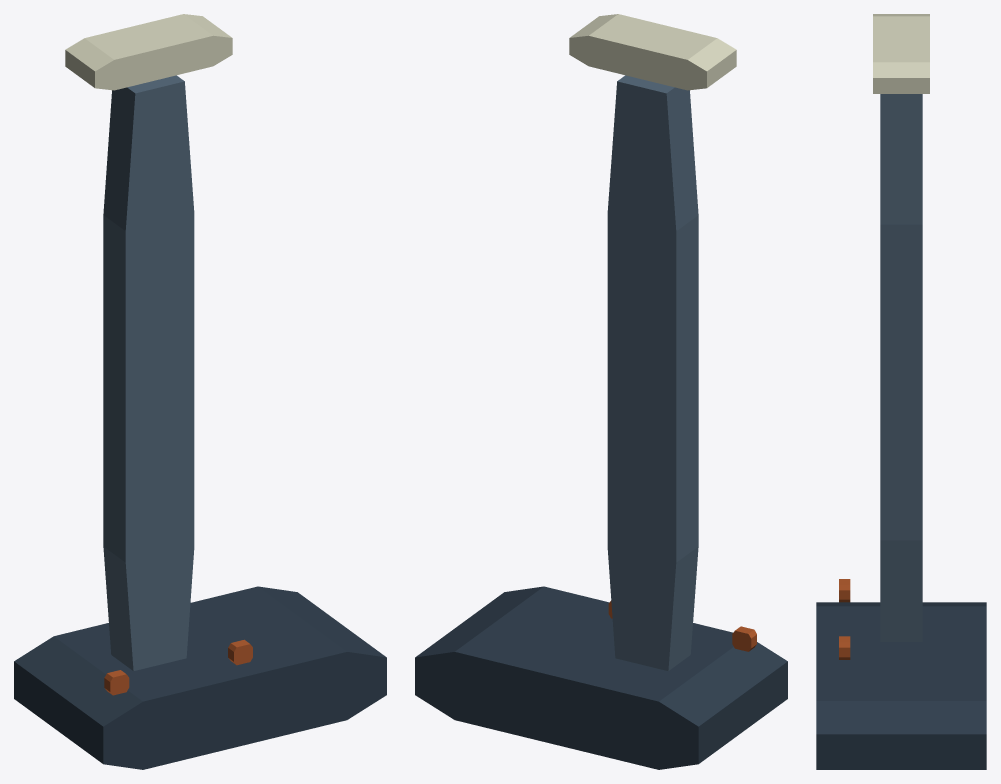
The model's file is BridgeEscapePylon.obj.
3 renders of one model, left to right at view 1: azimuth 30°, elevation 25°; view 2: azimuth 150°, elevation 25°; view 3: azimuth 270°, elevation 25°, orthographic. The views are drawn at different scales.
Visible parts, largest first — view 1: pin_pylon, anchor_foot, pin_crown, anchor_bolt; view 2: pin_pylon, anchor_foot, pin_crown; view 3: anchor_foot, pin_pylon, pin_crown, anchor_bolt.
Part boxes in pixels (x1,y1,x2,y2): pin_pylon: [103, 75, 194, 671]; anchor_foot: [14, 586, 386, 769]; pin_crown: [65, 14, 232, 90]; anchor_bolt: [104, 639, 252, 695]; pin_pylon: [607, 75, 698, 671]; anchor_foot: [415, 586, 787, 769]; pin_crown: [569, 14, 736, 90]; anchor_foot: [816, 602, 986, 769]; pin_pylon: [880, 94, 922, 641]; pin_crown: [873, 14, 929, 93]; anchor_bolt: [839, 579, 850, 659].
Bounding box in the file's own units: 3.3 × 7.65 × 1.8.
